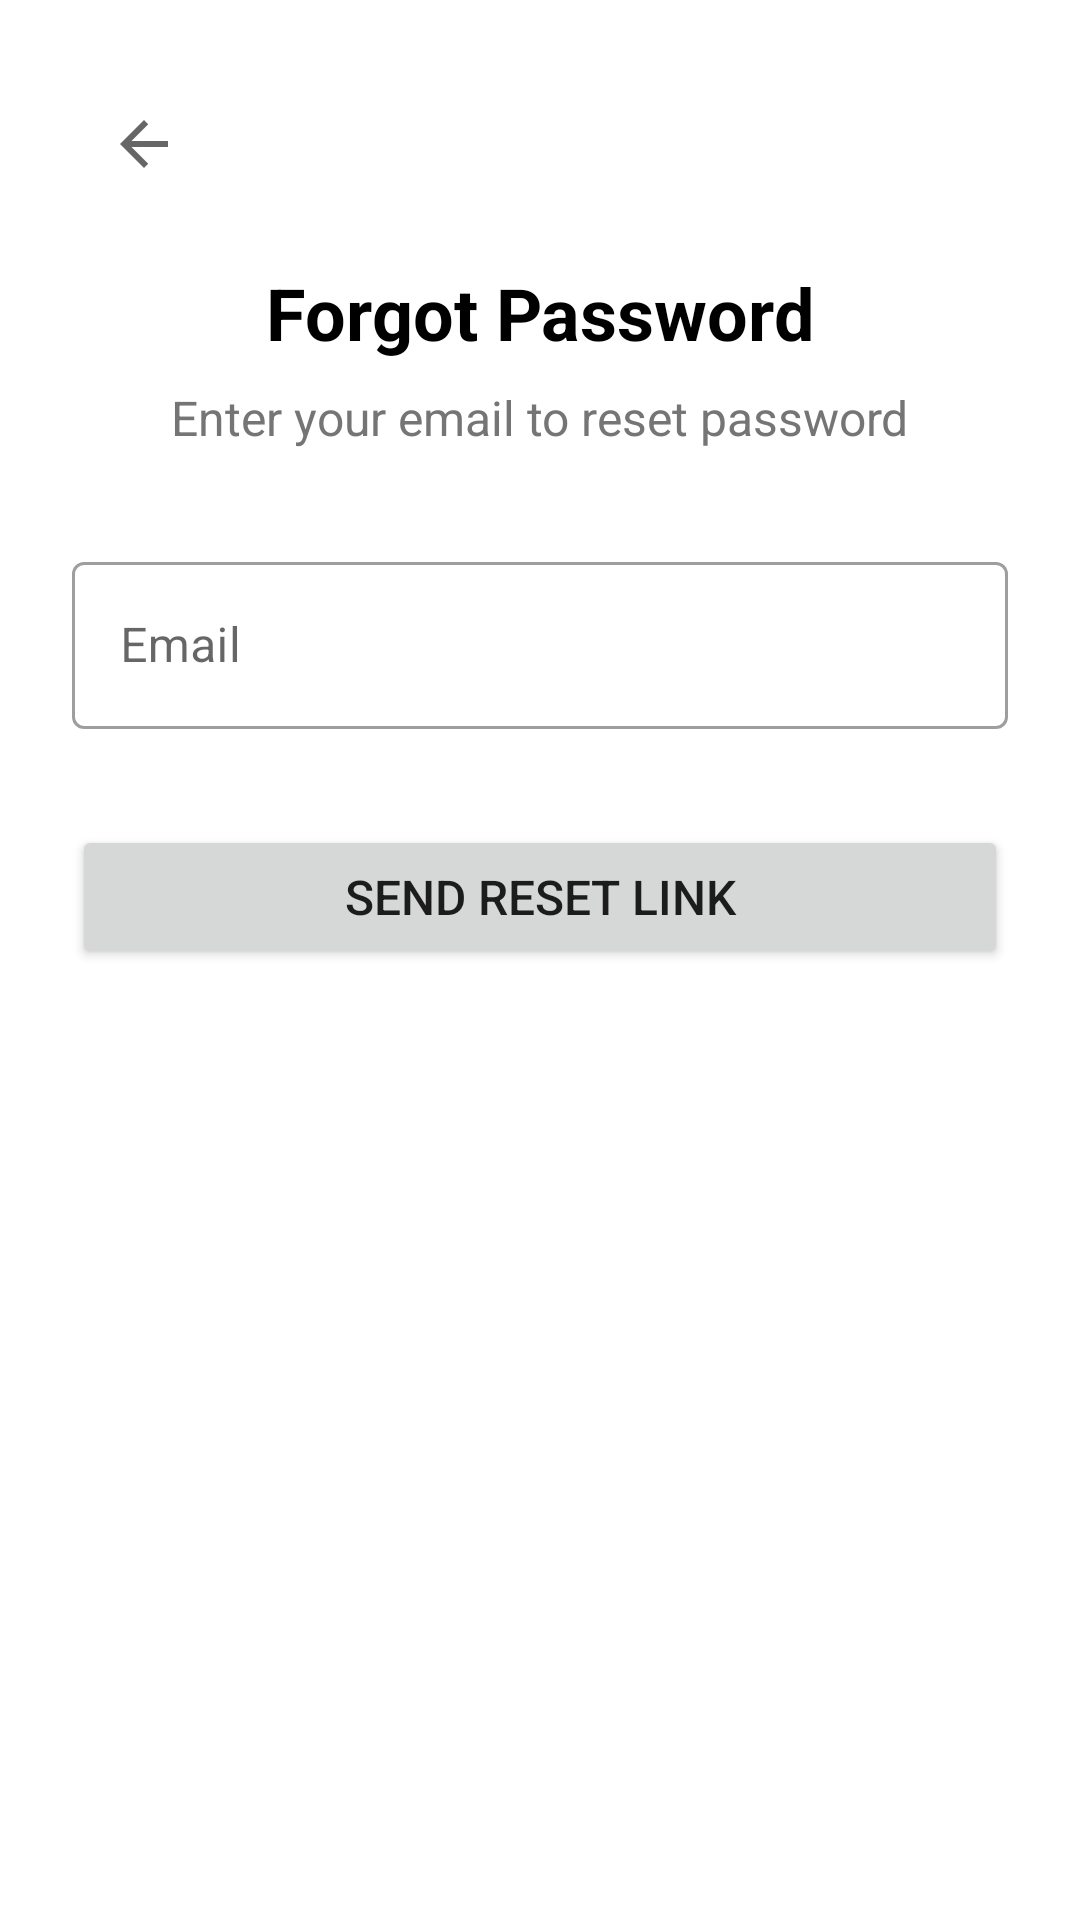

Named icons in this screenshot (1080px×1920px) and their bounding boxes, (x1, y1, x2, y2):
Back: (120, 120, 168, 168)
